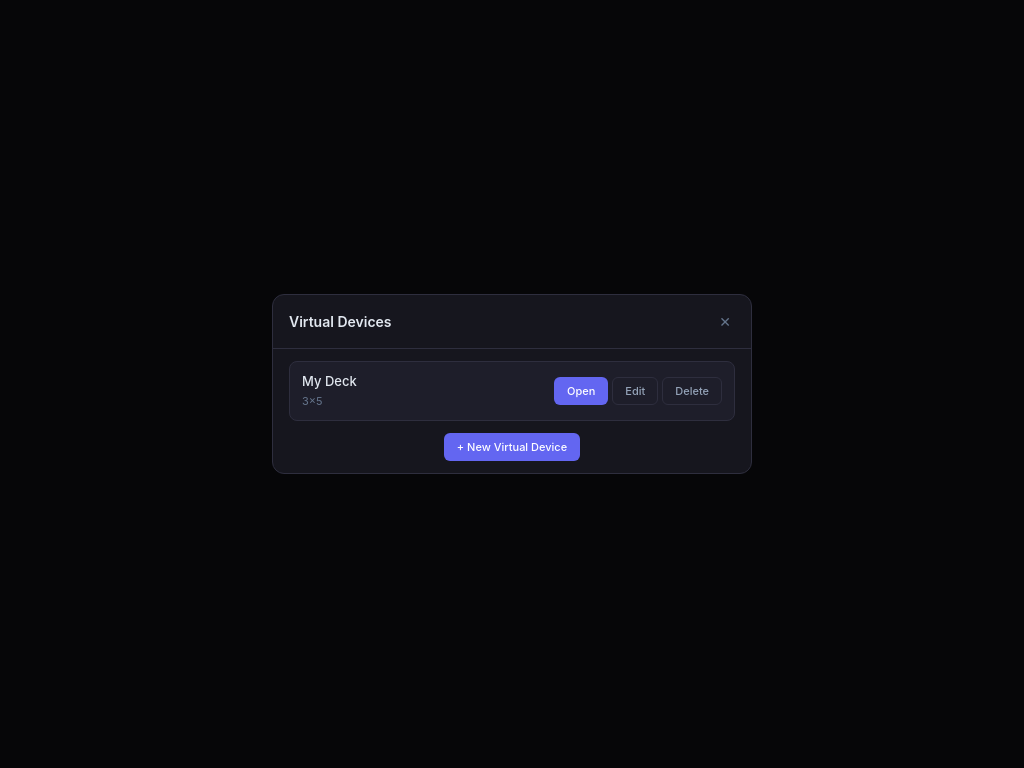
Test: VirtualDevicePanel › delete confirmation › should cancel delete confirmation
Click the button "Delete": (692, 391) [662,376,722,405]
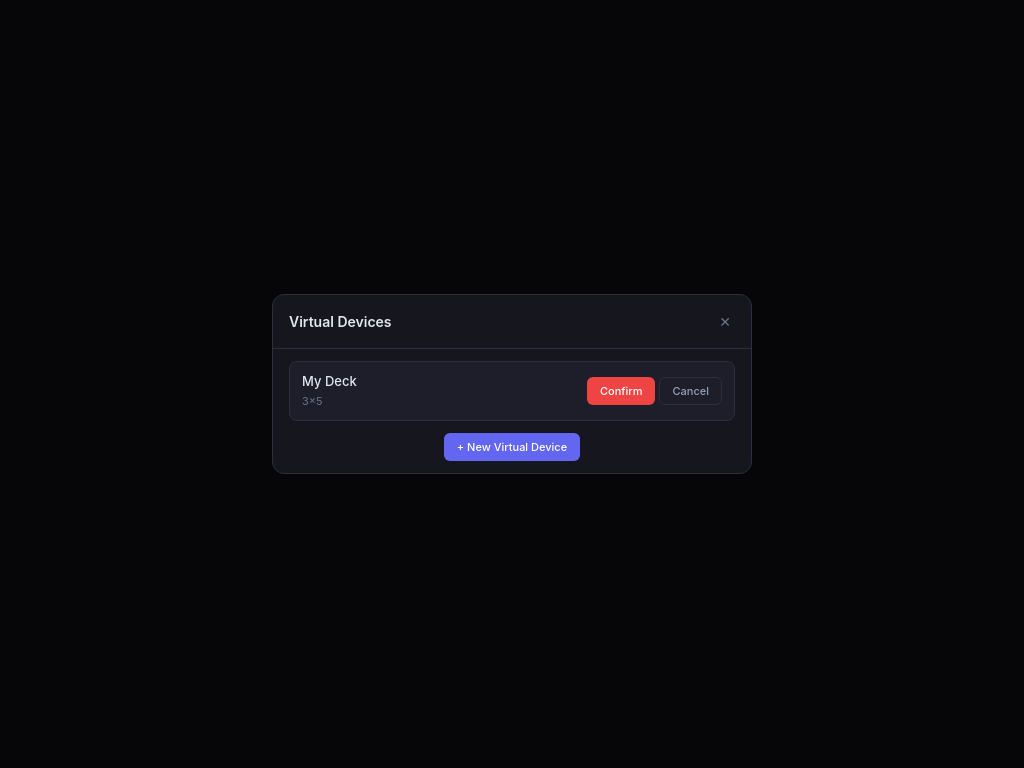
Click the button "Cancel": (691, 391) [660,376,722,405]
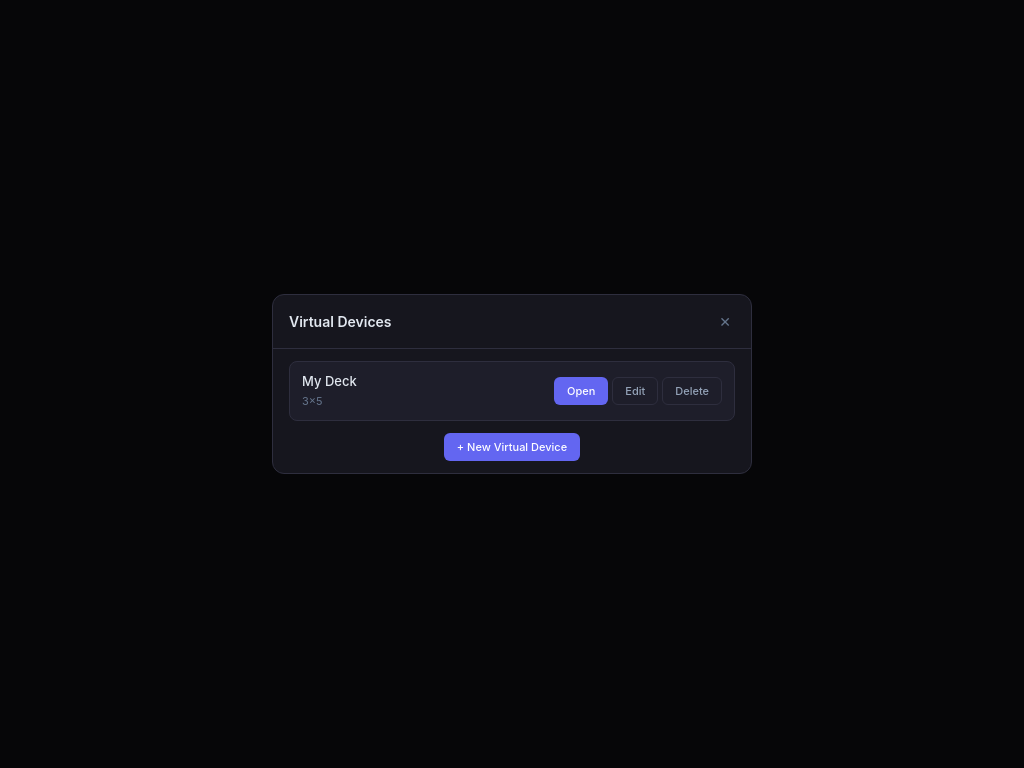
Check: the button "Open" is shown, box [554,376,608,405]
Check: the button "Delete" is shown, box [662,376,722,405]
